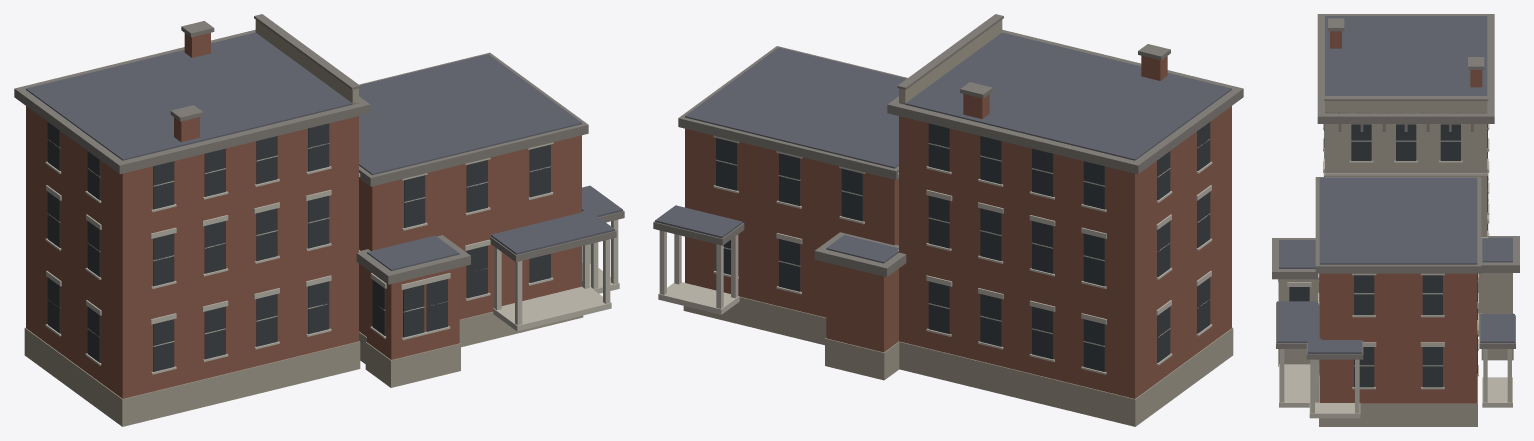
File: rothschild_house_2112_prairie__draft_1904.glb
3 renders of one model, left to right at view 1: azimuth 30°, elevation 25°; view 2: azimuth 150°, elevation 25°; view 3: azimuth 270°, elevation 25°, orthographic. The views are drawn at different scales.
Parts seen in each view (by area): view 1: rothschild_house_2112_prairie__draft_1904; view 2: rothschild_house_2112_prairie__draft_1904; view 3: rothschild_house_2112_prairie__draft_1904.
Boxes of the visible parts, x1=… form: rothschild_house_2112_prairie__draft_1904: x1=14, y1=14, x2=624, y2=426; rothschild_house_2112_prairie__draft_1904: x1=653, y1=14, x2=1243, y2=426; rothschild_house_2112_prairie__draft_1904: x1=1272, y1=14, x2=1519, y2=426.
Size of the model in its own units: 23.75 by 13.34 by 12.2.
